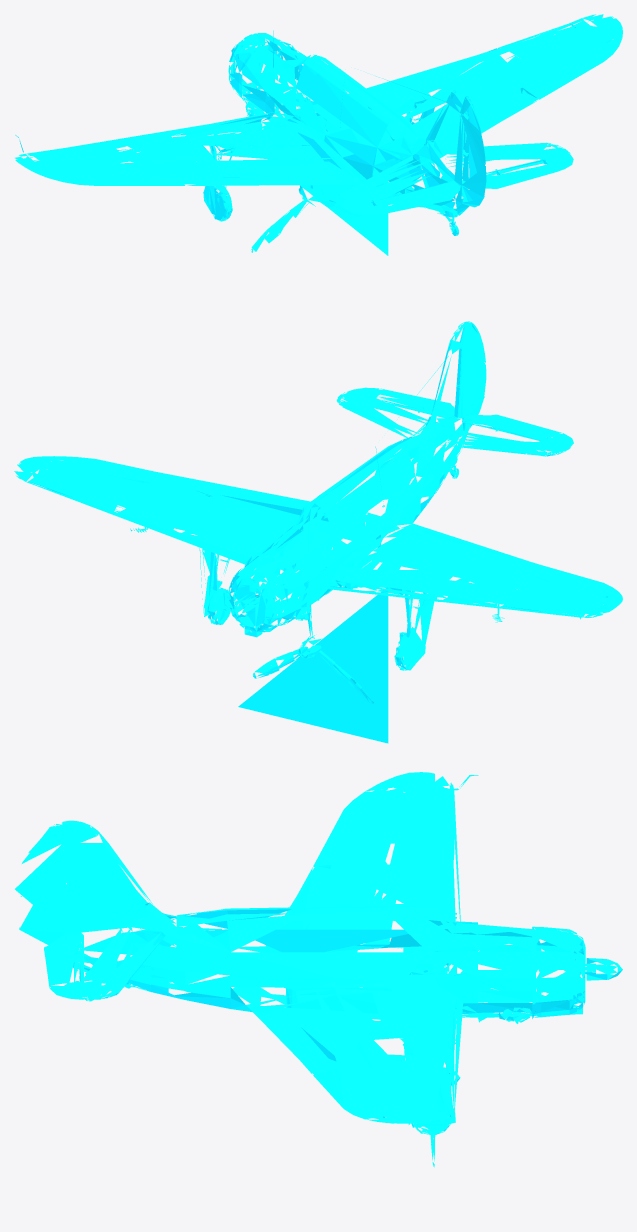
Rendered from PAAD998.glb.
The picture shows the model from 3 angles, top to bottom: view 1: azimuth 30°, elevation 25°; view 2: azimuth 150°, elevation 25°; view 3: azimuth 270°, elevation 25°; orthographic projection. The views are drawn at different scales.
Visible parts, largest first — view 1: misc; view 2: misc; view 3: misc.
Boxes of the visible parts, x1=… form: misc: x1=15, y1=14, x2=622, y2=255; misc: x1=14, y1=321, x2=622, y2=743; misc: x1=15, y1=772, x2=622, y2=1167.
Bounding box in the file's own units: 1.01 × 0.4732 × 0.7401.
